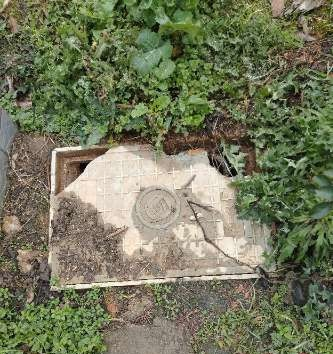broke: (48, 137, 289, 292)
